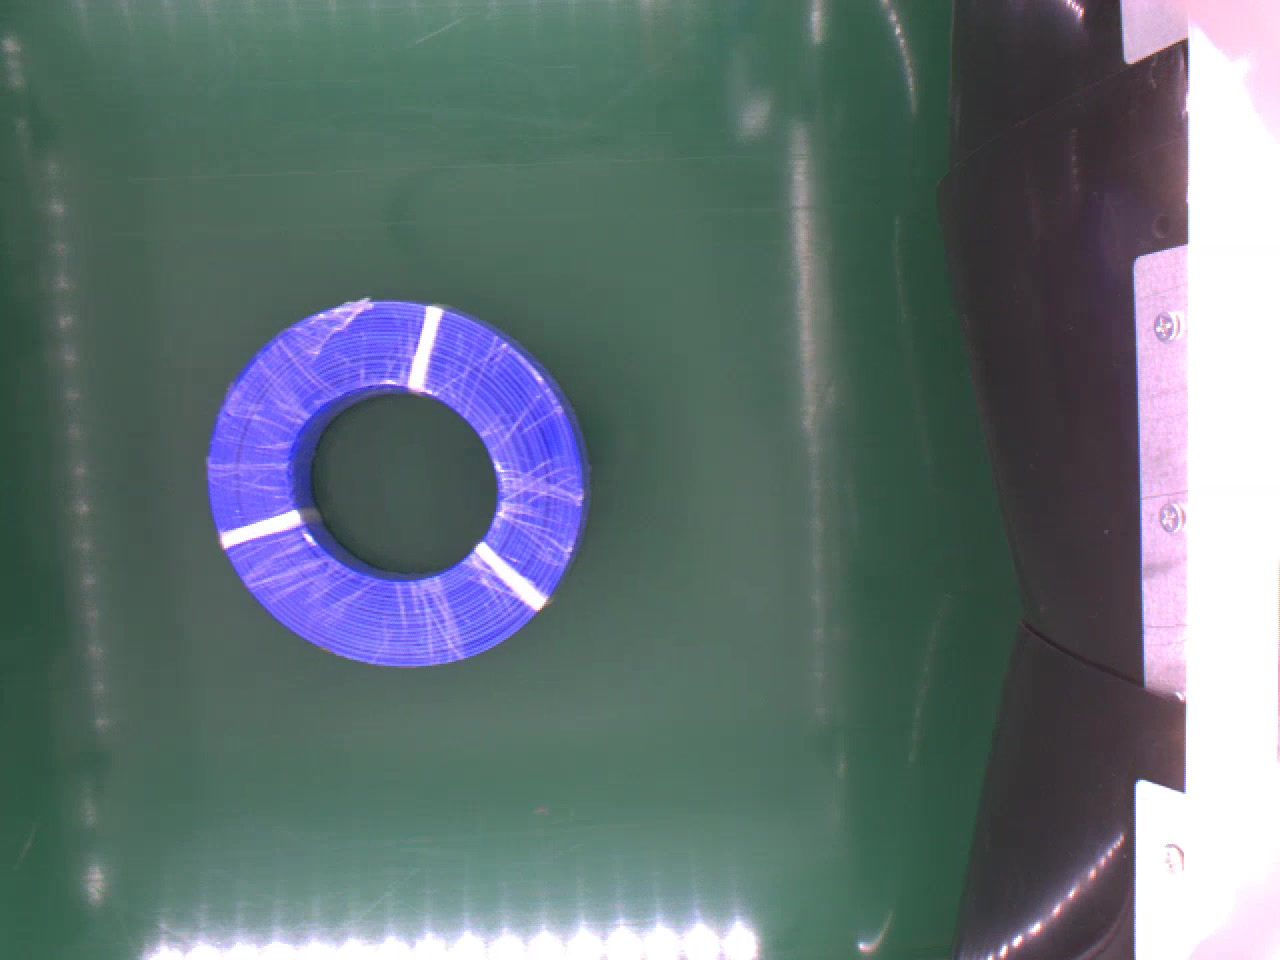blue: (206, 296, 590, 668)
